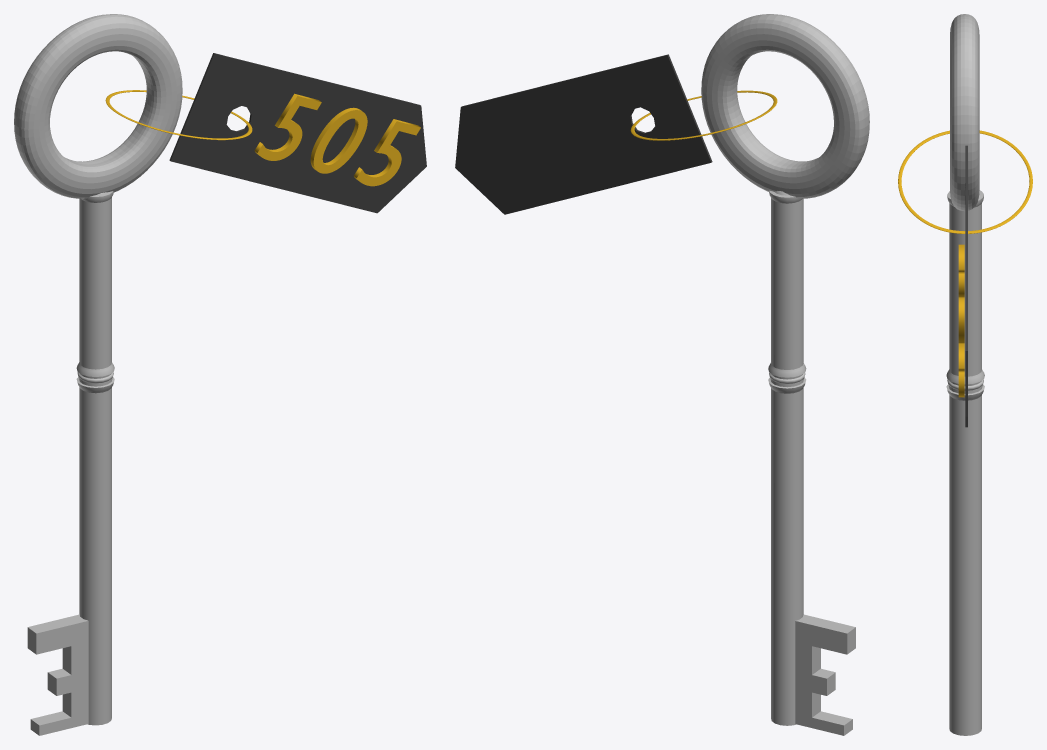
The model's file is key505.fbx.
3 renders of one model, left to right at view 1: azimuth 30°, elevation 25°; view 2: azimuth 150°, elevation 25°; view 3: azimuth 270°, elevation 25°, orthographic.
Visible parts, largest first — view 1: key505; view 2: key505; view 3: key505.
Boxes of the visible parts, x1,y1,x2,y2 form: key505: (14, 14, 426, 735); key505: (455, 14, 869, 735); key505: (898, 14, 1032, 735).
Bounding box in the file's own units: 8.68 × 14.18 × 2.45.
